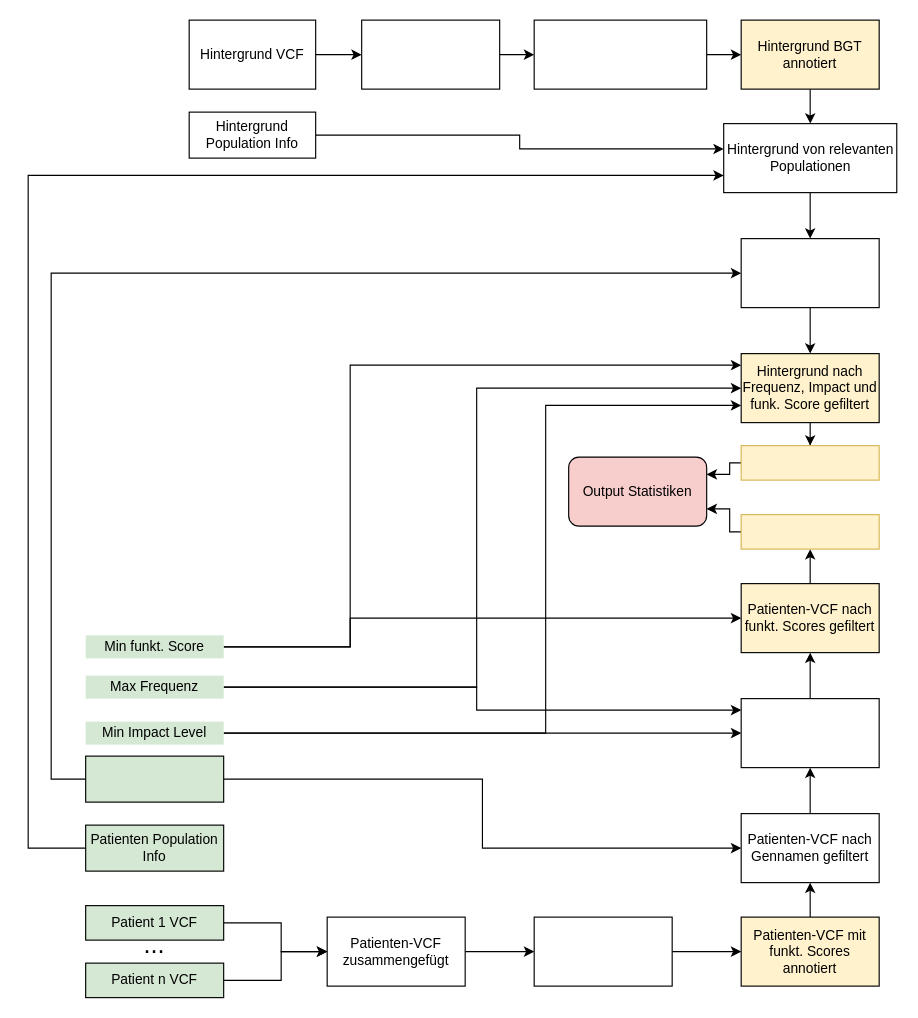
The diagram is 918 pixels wide and 1018 high, and some of its shapes have lost their labels. Here are the shapes that lost their labels. From the top down, the centre of each, then its label:
At point (430, 54): "Hintergrund VCF annotiert".
At point (620, 54): "Hintergrund VCF annotiert mit funktionalen Scores".
At point (809, 272): "Hintergrund nach Gennamen gefiltert".
At point (809, 462): "Hintergrund-CSV".
At point (809, 531): "Patienten-CSV".
At point (809, 732): "Patienten-VCF nach Impact und Frequenz gefiltert".
At point (154, 778): "Gene names TXT/BED".
At point (602, 951): "Patienten-VCF annotiert".
